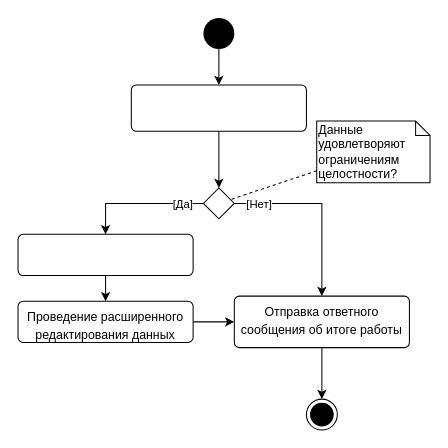
Image size: 448x448. Some labels were removed from this diagram. Each missing label, with the centre of its shape:
"Проведение редактирования данных" belongs at pixel 105 254.
"Проверка ограничений целостности" belongs at pixel 218 107.
